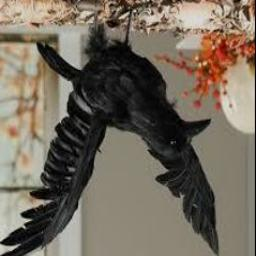Crow: (0, 8, 223, 256)
